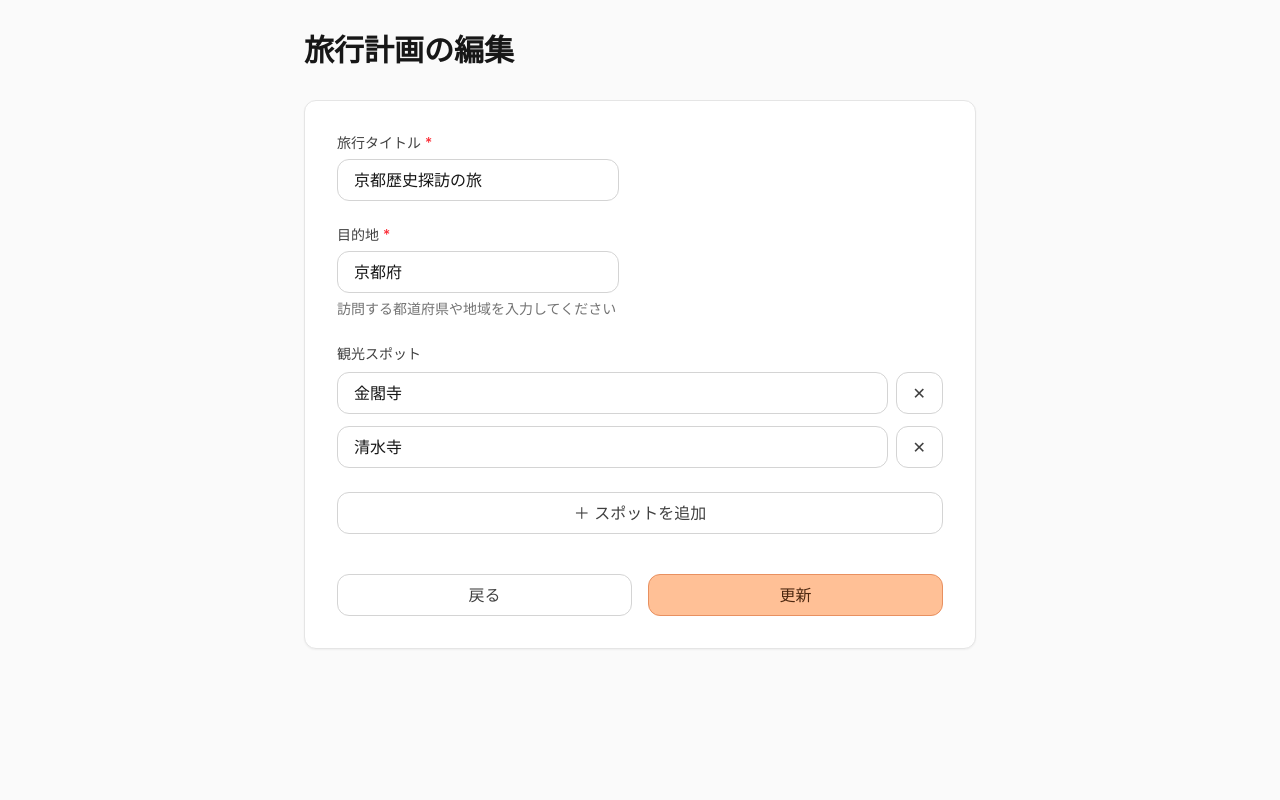
Test: TravelEditPage › ガイド生成エラー › ガイド生成が失敗した場合はエラーダイアログが表示される
The image size is (1280, 800).
expect the field showing "京都歴史探訪の旅" is shown: met, box [337,159,619,201]
// 実行: 更新ボタンをクリック
What coordinates should you click on to do the following:
click the button "更新"
I would click on:
 (796, 595)
Its box is [648,574,943,616].
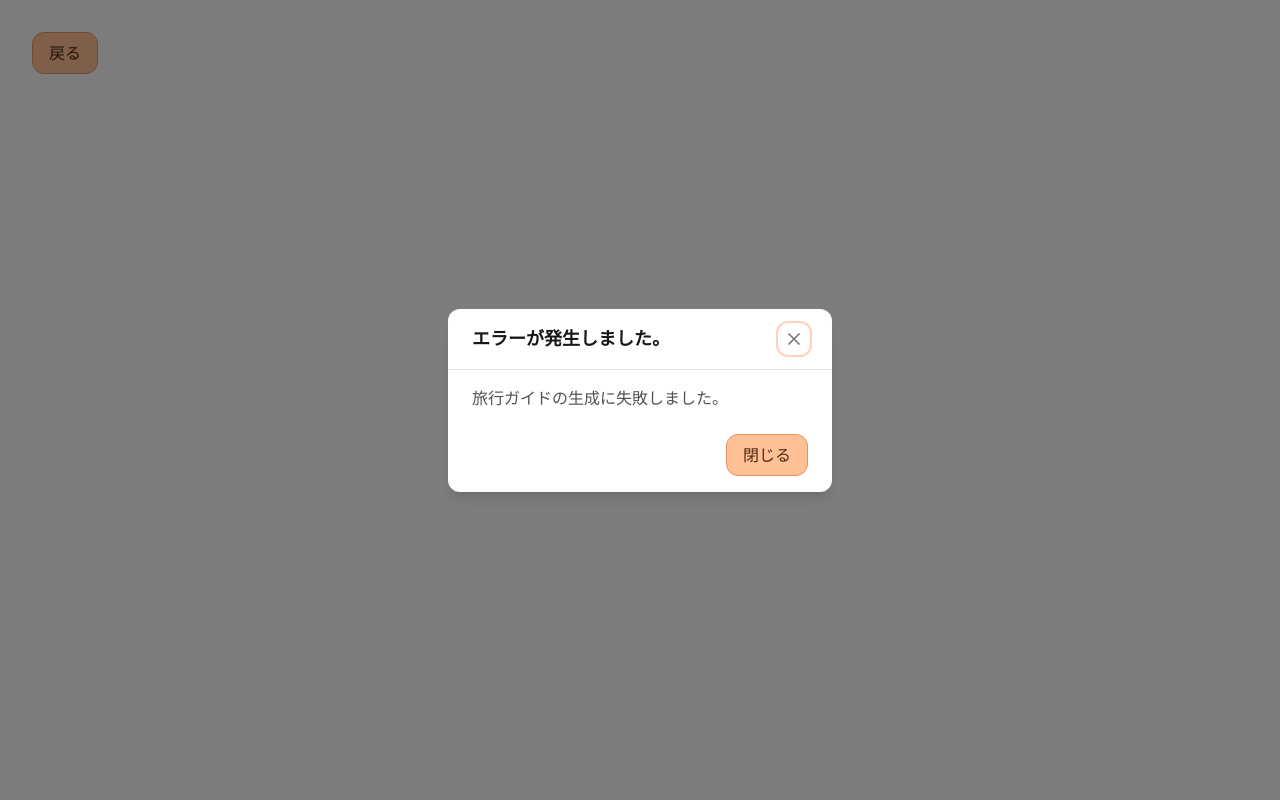
expect the text "旅行ガイドの生成に失敗しました。" is shown: met, box [472,388,728,408]
